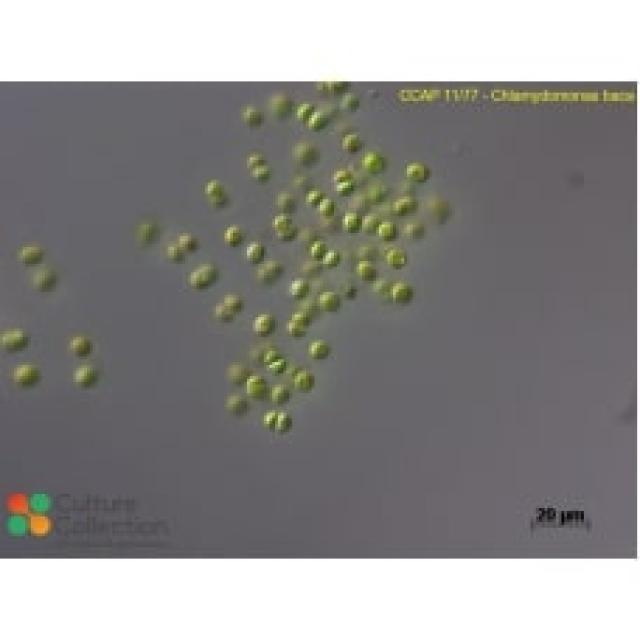Green Algae: (67, 362, 104, 387), (280, 312, 308, 342), (387, 242, 413, 272), (11, 362, 42, 387), (292, 140, 320, 166), (17, 241, 45, 267), (241, 98, 264, 129), (362, 149, 387, 177), (188, 264, 216, 289), (402, 160, 429, 185), (387, 281, 413, 306), (28, 269, 56, 292), (219, 222, 244, 247), (278, 407, 297, 438), (258, 407, 281, 432), (306, 337, 328, 362), (250, 312, 275, 334), (340, 87, 362, 112), (177, 230, 199, 253), (3, 328, 25, 351), (357, 258, 376, 284), (396, 194, 421, 213), (225, 292, 244, 317), (73, 334, 93, 357), (247, 238, 264, 264), (306, 112, 328, 132), (289, 278, 309, 300), (166, 244, 188, 264), (247, 371, 267, 393), (292, 371, 314, 390), (376, 219, 396, 239), (362, 213, 382, 233), (320, 289, 340, 309), (252, 166, 270, 188), (322, 247, 340, 269), (320, 199, 337, 222), (306, 185, 323, 208), (247, 149, 267, 168), (202, 177, 222, 196), (309, 238, 323, 264), (343, 132, 362, 149), (270, 379, 289, 396), (342, 211, 357, 230), (292, 104, 312, 118), (269, 216, 292, 228), (331, 168, 348, 182), (266, 348, 280, 365)
